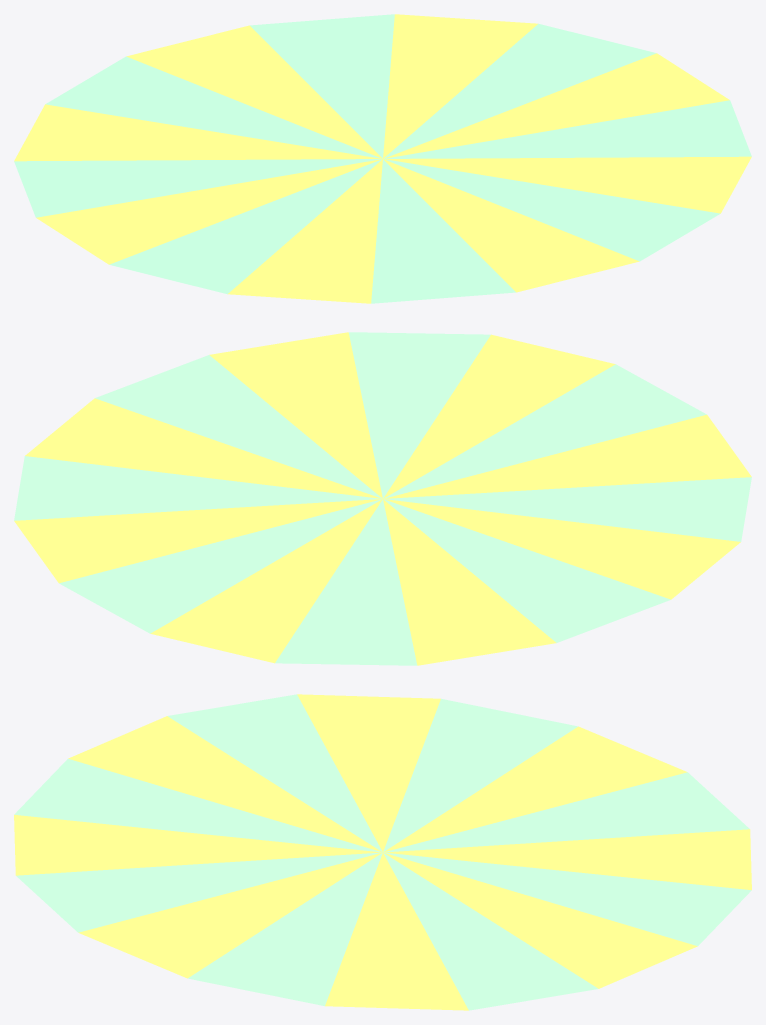
File: rotating screen.4blend.fbx
3 renders of one model, top to bottom at view 1: azimuth 30°, elevation 25°; view 2: azimuth 150°, elevation 25°; view 3: azimuth 270°, elevation 25°, orthographic.
Parts seen in each view (by area): view 1: Plane; view 2: Plane; view 3: Plane.
Part boxes in pixels (x1,y1,x2,y2): Plane: (14,14,751,303); Plane: (14,332,751,665); Plane: (14,694,751,1010).
Size of the model in its own units: 16627 by 655 by 16614.
